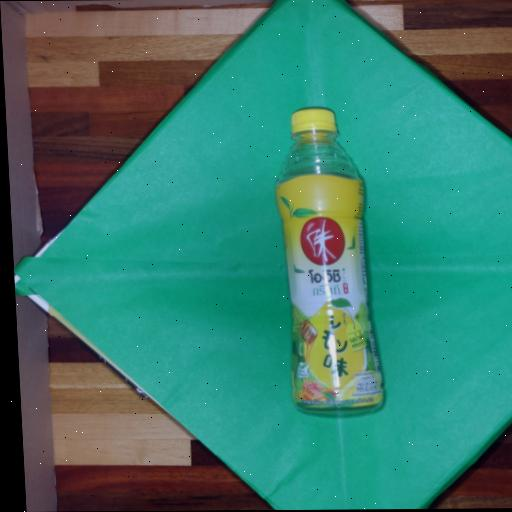bottle: (277, 108, 383, 410)
